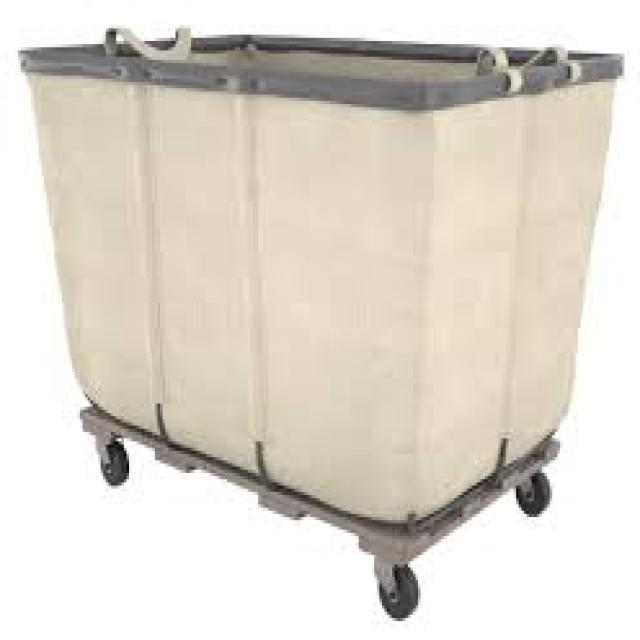basket: (0, 19, 626, 533)
